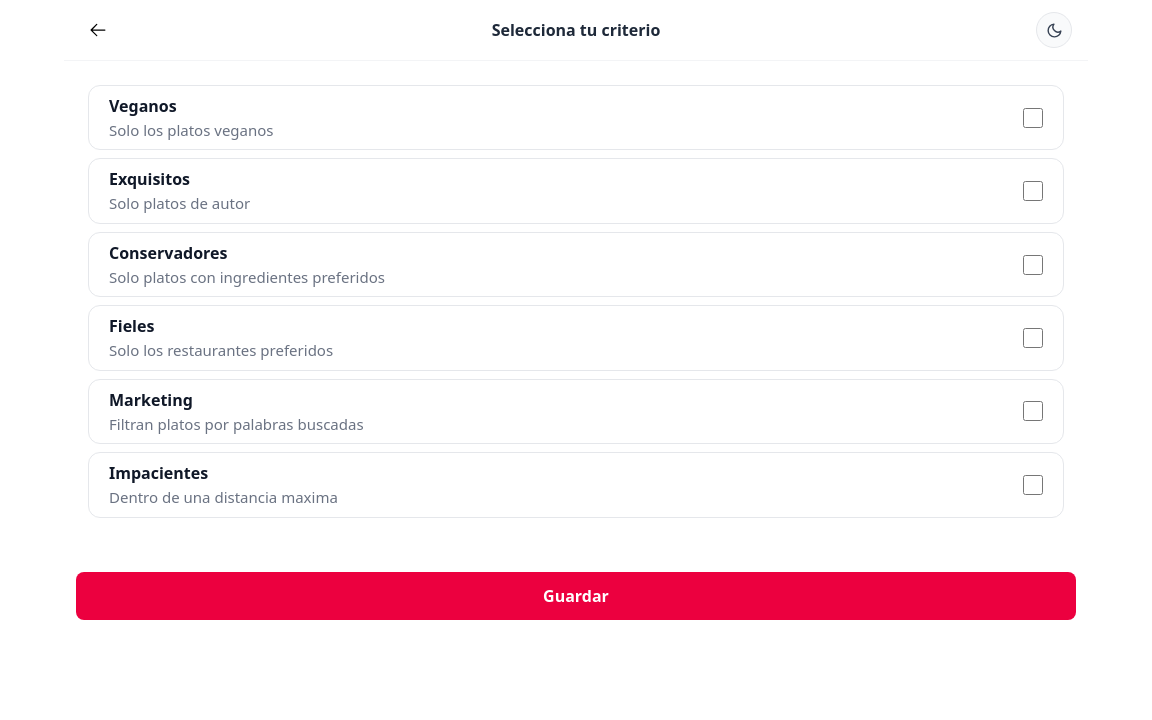
it: CriteriosPanel › debe validar criterio Vegano con ingredientes de origen animal
This screenshot has width=1152, height=720.
Check: the text "Veganos" is shown, box [109,95,177,117]
Click the checkbox in the row of "Solo los platos veganos" at [1033, 118], box [1023,108,1043,128]
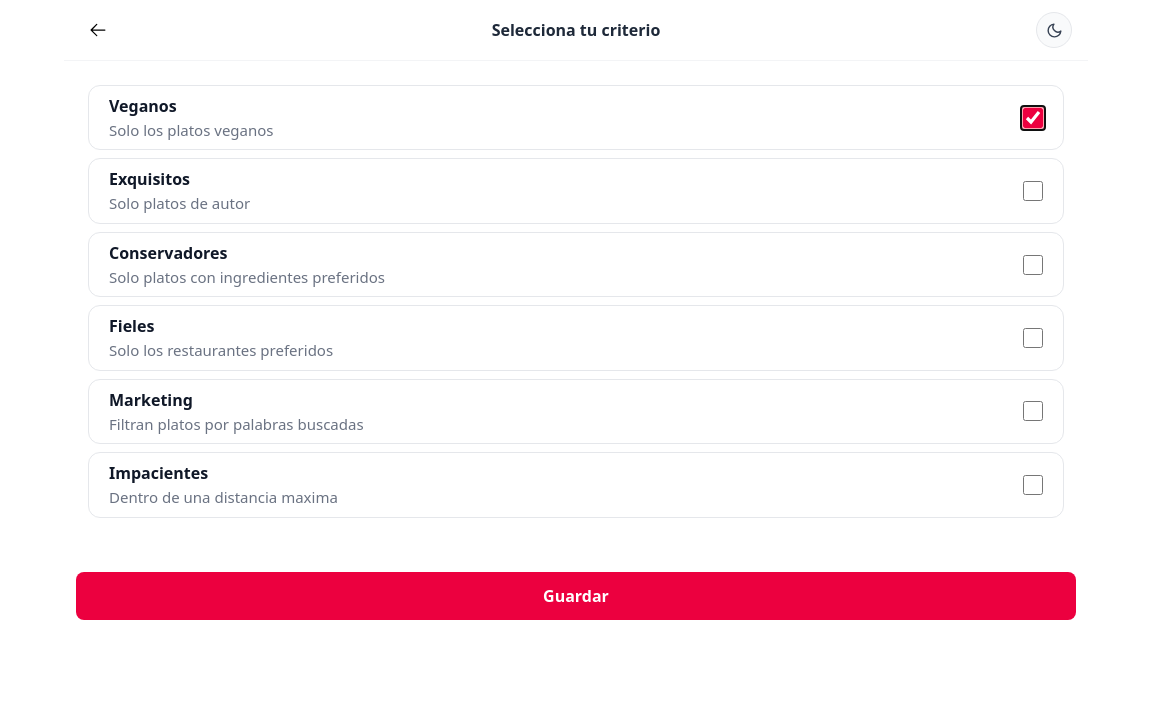
Check: the checkbox in the row of "Solo los platos veganos" is checked, box [1023,108,1043,128]
Click the button "Guardar" at [576, 596], box [76,572,1076,620]
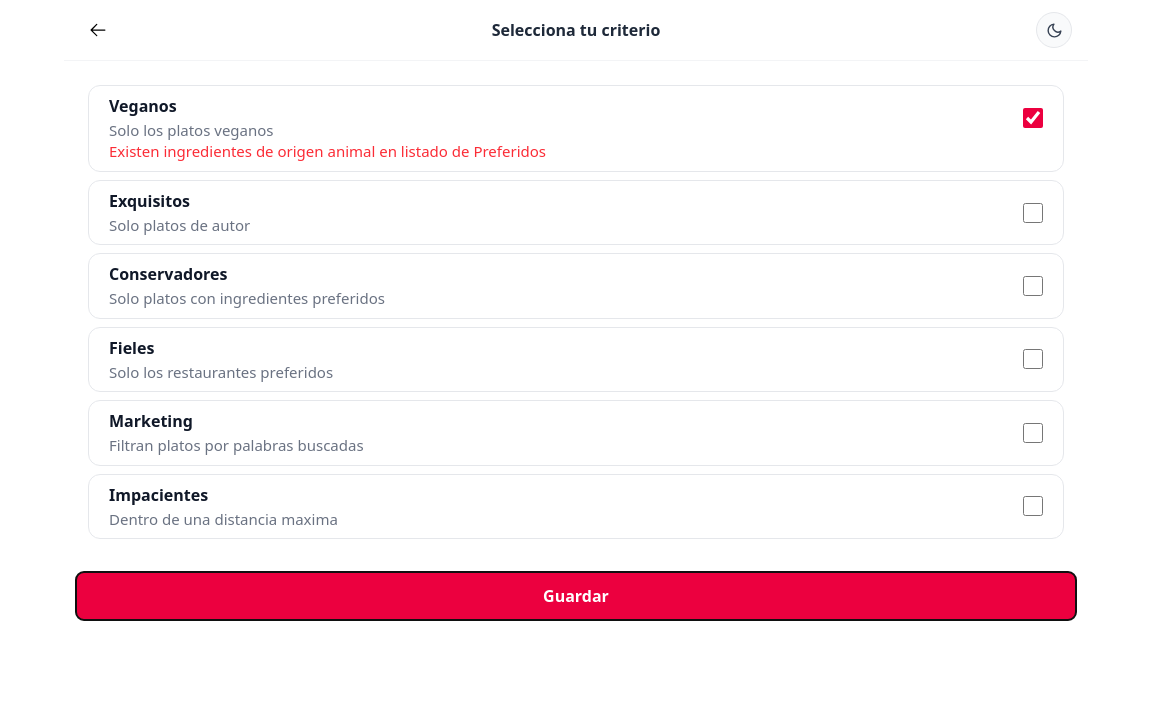
Check: the text "Existen ingredientes de origen animal en listado de Preferidos" is shown, box [109,141,546,161]
